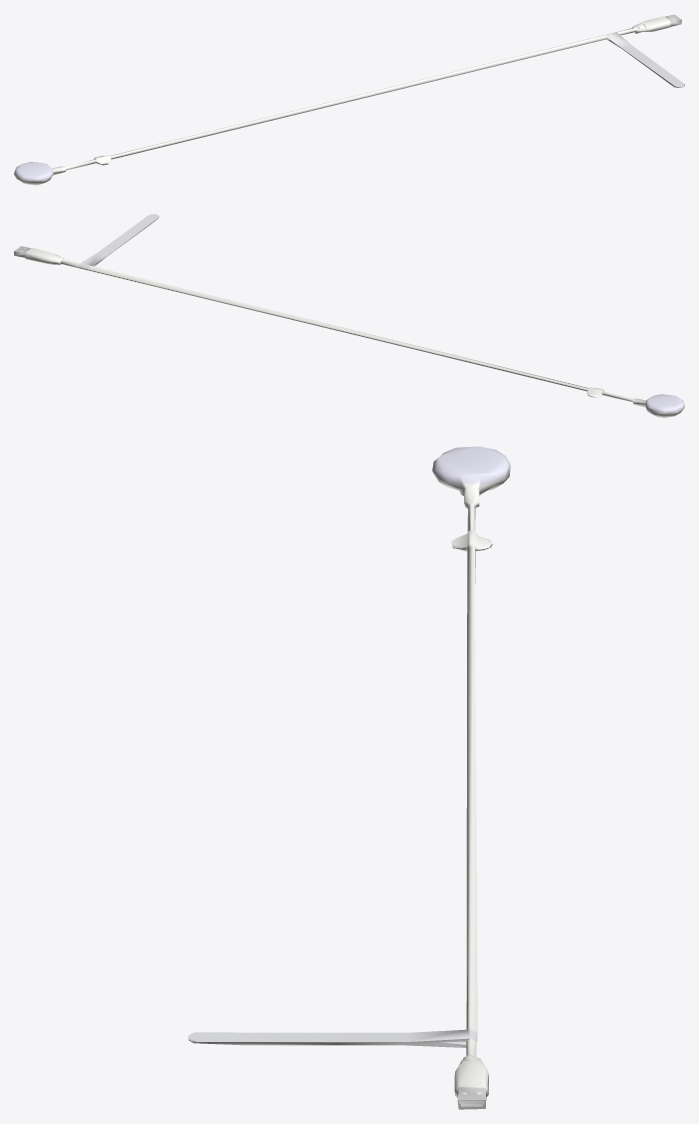
The model's file is kapplake_reflektor_led_20543157.glb.
3 views of the same model, one above another, from view 1: azimuth 30°, elevation 25°; view 2: azimuth 150°, elevation 25°; view 3: azimuth 270°, elevation 25° (orthographic). The views are drawn at different scales.
Parts seen in each view (by area): view 1: kapplake_reflektor_led_20543157; view 2: kapplake_reflektor_led_20543157; view 3: kapplake_reflektor_led_20543157.
Boxes of the visible parts, left/top/right/bottom form: kapplake_reflektor_led_20543157: left=14, top=14, right=684, bottom=185; kapplake_reflektor_led_20543157: left=14, top=214, right=684, bottom=417; kapplake_reflektor_led_20543157: left=188, top=446, right=510, bottom=1109.
Size of the model in its own units: 0.6724 by 0.0115 by 0.1419.
1 material, 1 textured.
